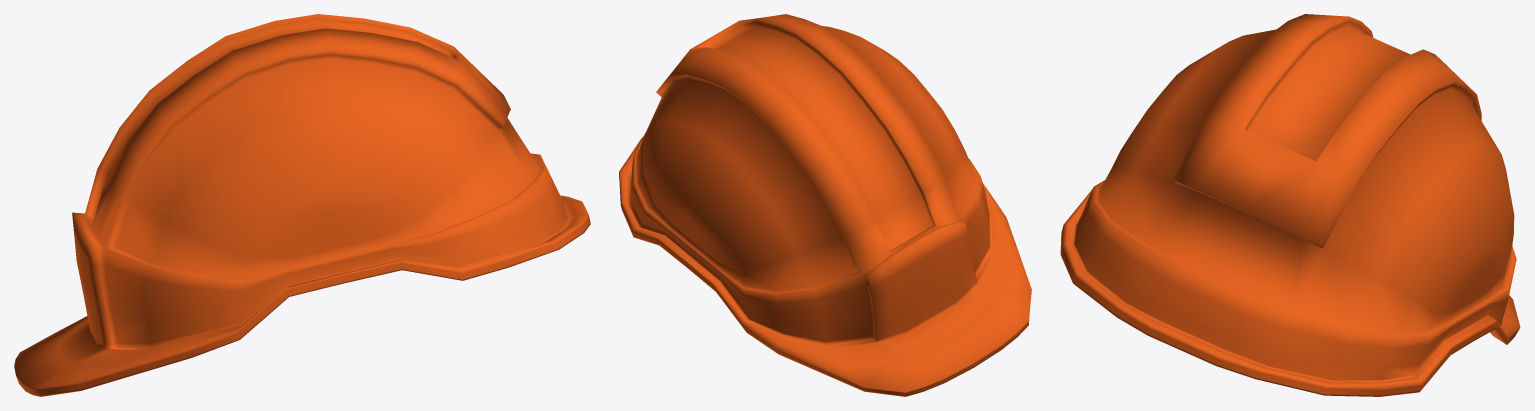
The model's file is helmet.glb.
3 views of the same model, side by side, from view 1: azimuth 30°, elevation 25°; view 2: azimuth 150°, elevation 25°; view 3: azimuth 270°, elevation 25° (orthographic). The views are drawn at different scales.
Visible parts, largest first — view 1: helmet; view 2: helmet; view 3: helmet.
Boxes of the visible parts, <box> form: helmet: <box>14,14,590,396</box>; helmet: <box>619,14,1031,396</box>; helmet: <box>1060,14,1520,396</box>.
Size of the model in its own units: 2.37 by 1.52 by 1.74.
